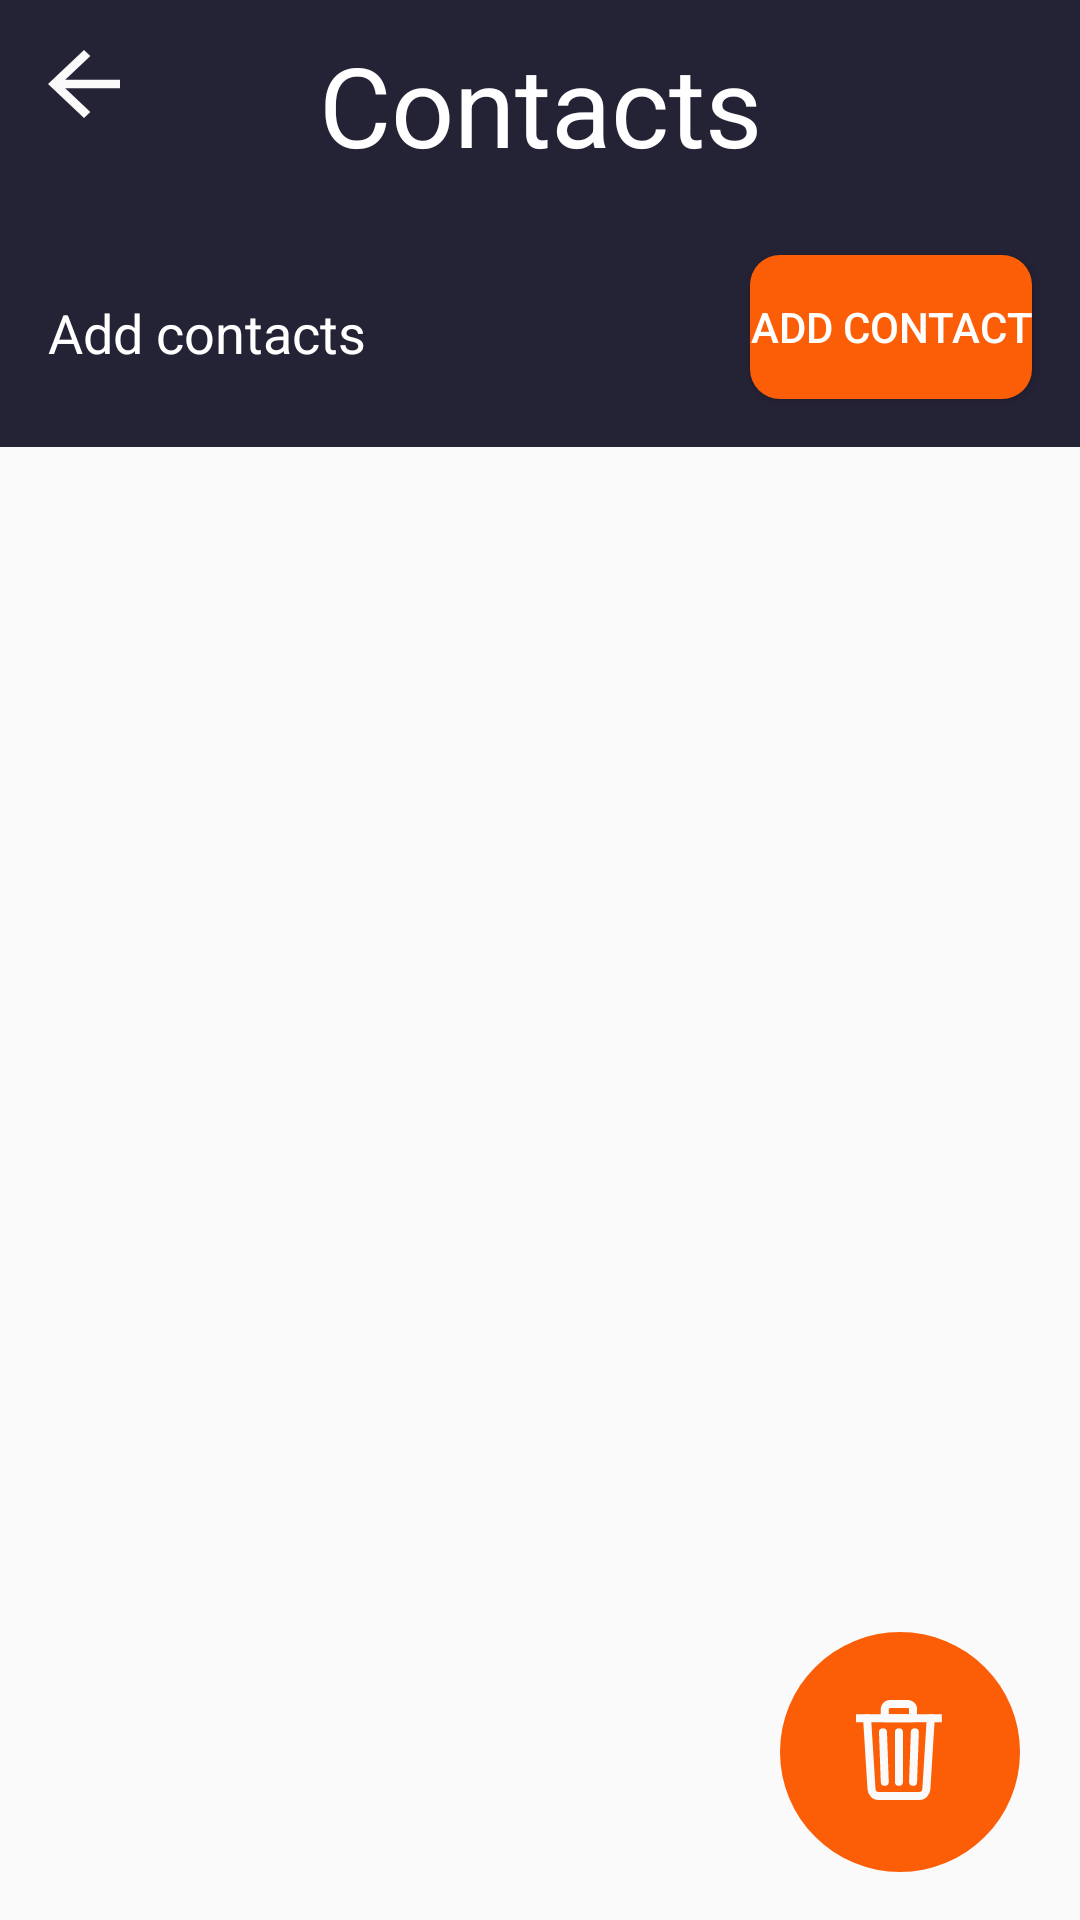

Named icons in this screenshot (1080w x 1920h) and their centers, (x,y):
delete contacts: (900,1752)
